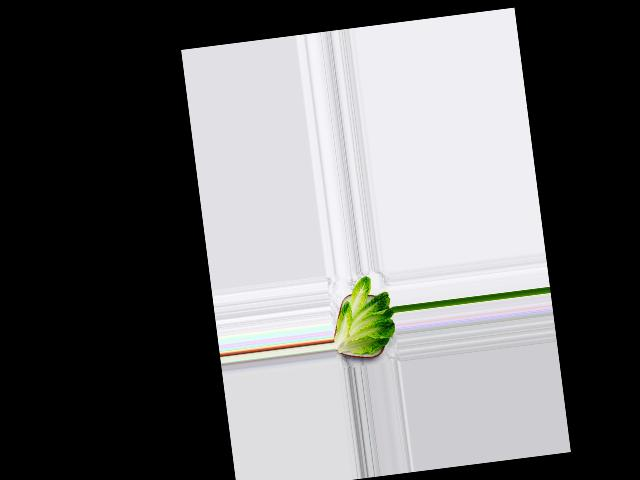lettuce: (328, 272, 400, 362)
